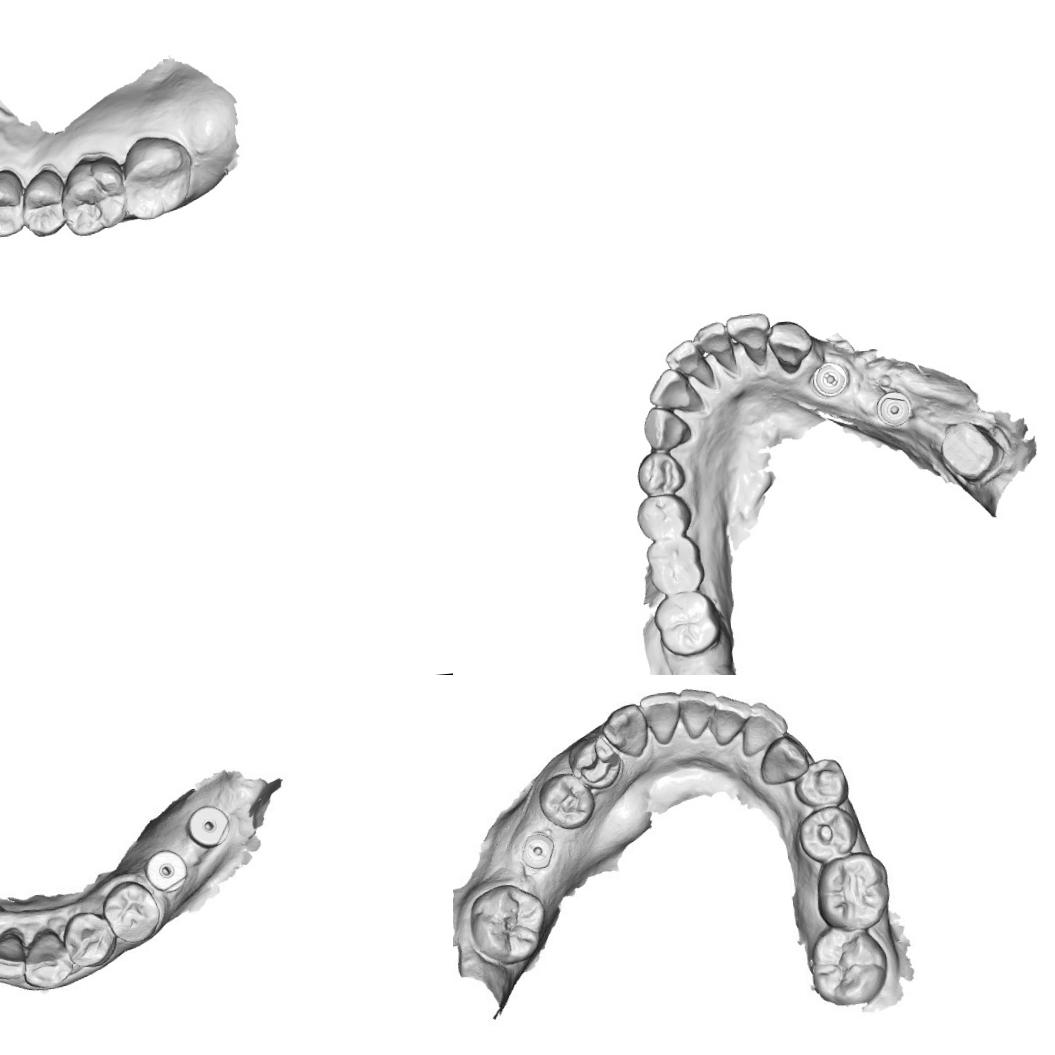canine: (25, 925, 83, 992), (766, 316, 816, 376), (758, 732, 812, 786), (602, 701, 650, 760), (640, 404, 693, 452)
crown: (937, 415, 1010, 488)
implant: (188, 802, 229, 850), (149, 846, 190, 893), (873, 390, 912, 428)
implant_minus: (810, 358, 853, 399), (517, 829, 558, 872)
incisor: (734, 698, 788, 755), (644, 364, 704, 415), (662, 336, 716, 392), (724, 310, 774, 369), (638, 684, 682, 746), (674, 684, 720, 741), (703, 693, 748, 748), (0, 927, 33, 981), (690, 320, 732, 356)
inlay: (574, 733, 622, 785)
molar: (804, 923, 892, 1009), (466, 880, 550, 967), (118, 133, 197, 222), (810, 849, 894, 932), (57, 153, 128, 238), (650, 588, 724, 660), (644, 534, 706, 598)
premolar: (100, 876, 165, 945), (533, 770, 596, 832), (793, 804, 858, 864), (18, 166, 69, 239), (792, 754, 849, 812), (633, 490, 693, 540), (64, 910, 114, 964), (634, 448, 686, 498), (0, 167, 27, 239)
